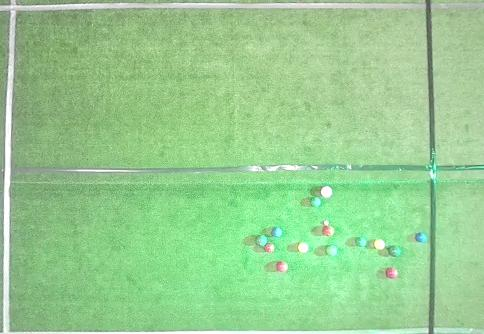blue: (415, 232, 427, 243), (272, 227, 282, 237)
green: (388, 246, 401, 257), (256, 234, 267, 246), (326, 245, 338, 256), (355, 237, 367, 247), (311, 197, 321, 207)
red: (321, 186, 333, 198), (386, 268, 398, 279), (276, 261, 287, 273), (323, 226, 334, 236), (264, 243, 274, 253)
vline: (425, 0, 483, 333), (0, 0, 20, 333)
white: (324, 220, 329, 225)
yellow: (374, 239, 385, 250), (298, 243, 308, 253)
